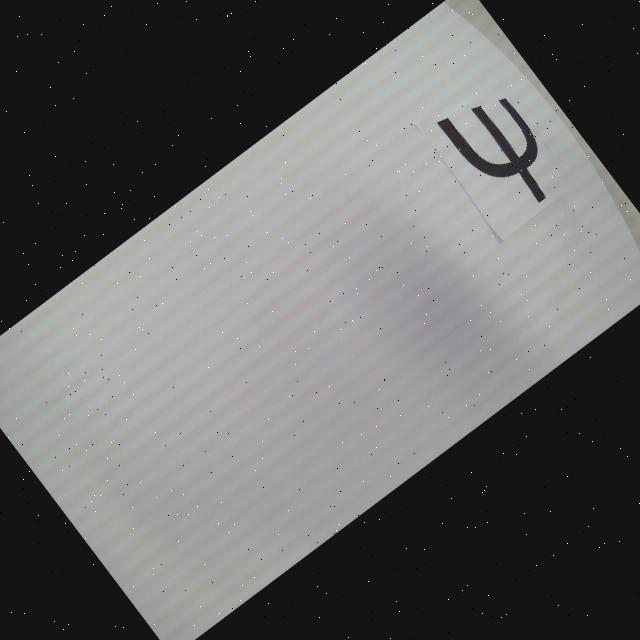PSI: (436, 78, 571, 224)
